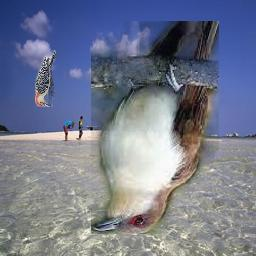Cuckoo: (91, 22, 219, 235)
Woodpecker: (36, 51, 57, 108)
